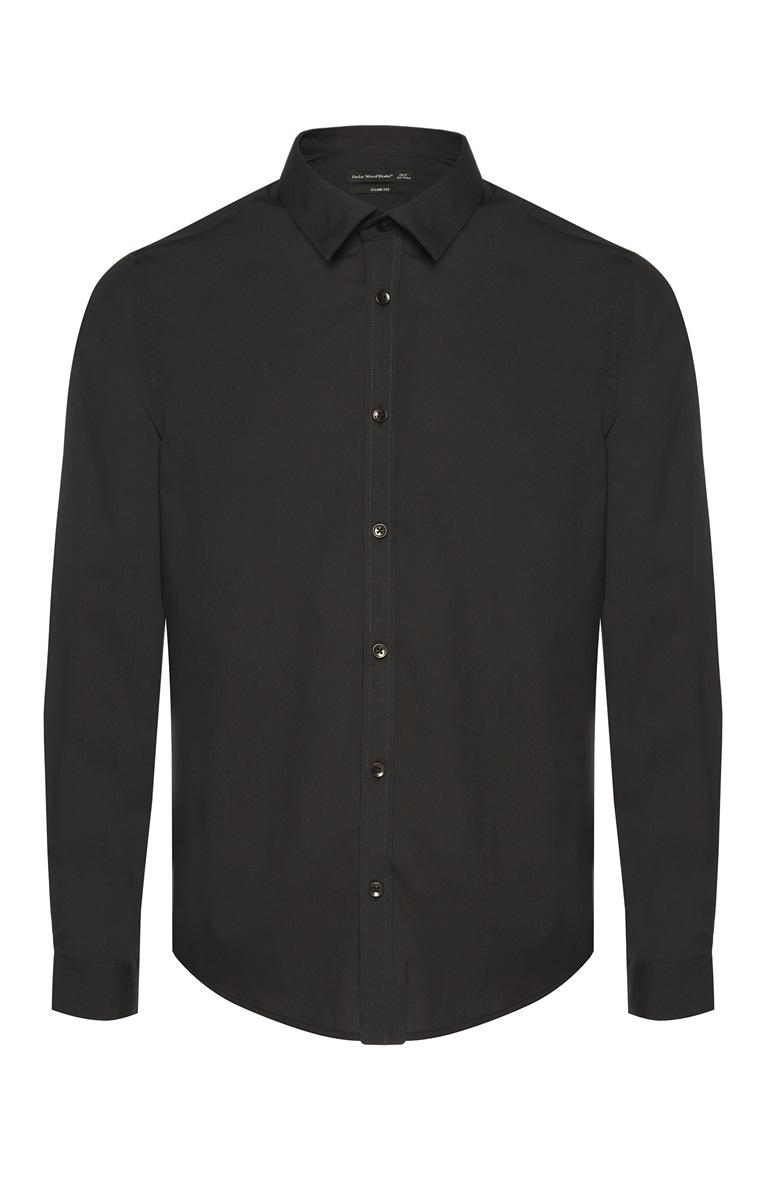teeshirt: (34, 111, 760, 1060)
